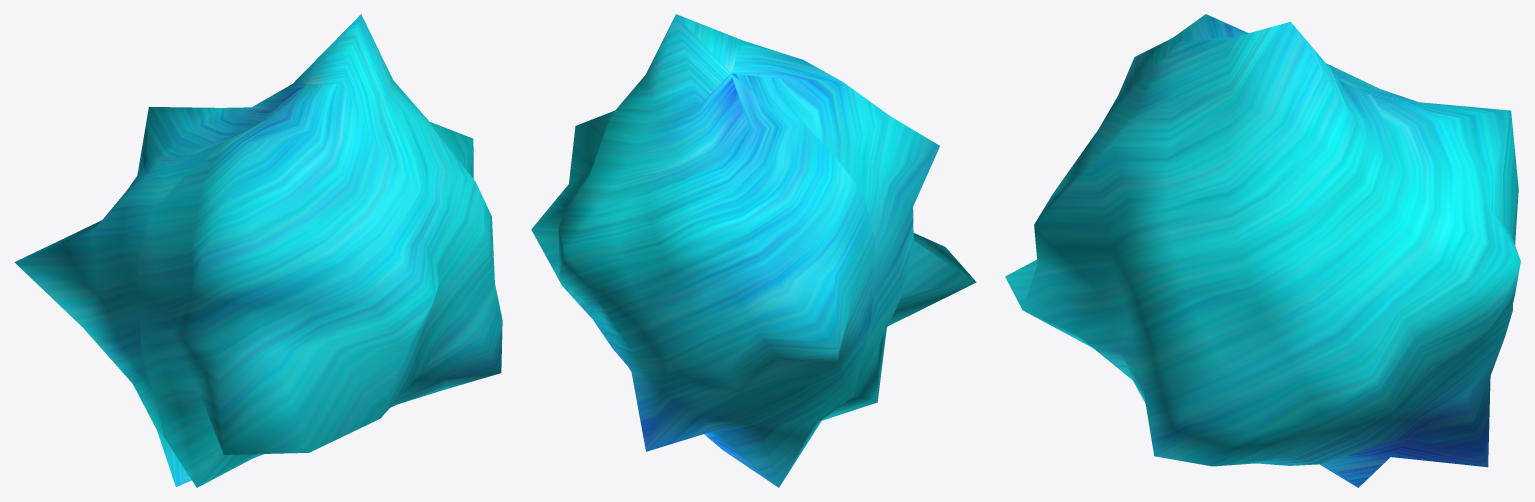
The model's file is e_iceBossTail.FBX.
The picture shows the model from 3 angles, left to right: view 1: azimuth 30°, elevation 25°; view 2: azimuth 150°, elevation 25°; view 3: azimuth 270°, elevation 25°; orthographic projection. The views are drawn at different scales.
Visible parts, largest first — view 1: GeoSphere001; view 2: GeoSphere001; view 3: GeoSphere001.
Boxes of the visible parts, bbox=[...] form: GeoSphere001: bbox=[14, 14, 502, 487]; GeoSphere001: bbox=[531, 14, 976, 487]; GeoSphere001: bbox=[1005, 14, 1520, 487].
Bounding box in the file's own units: 11.98 × 11.89 × 13.62.
Materials: 1 (1 with a texture image).
